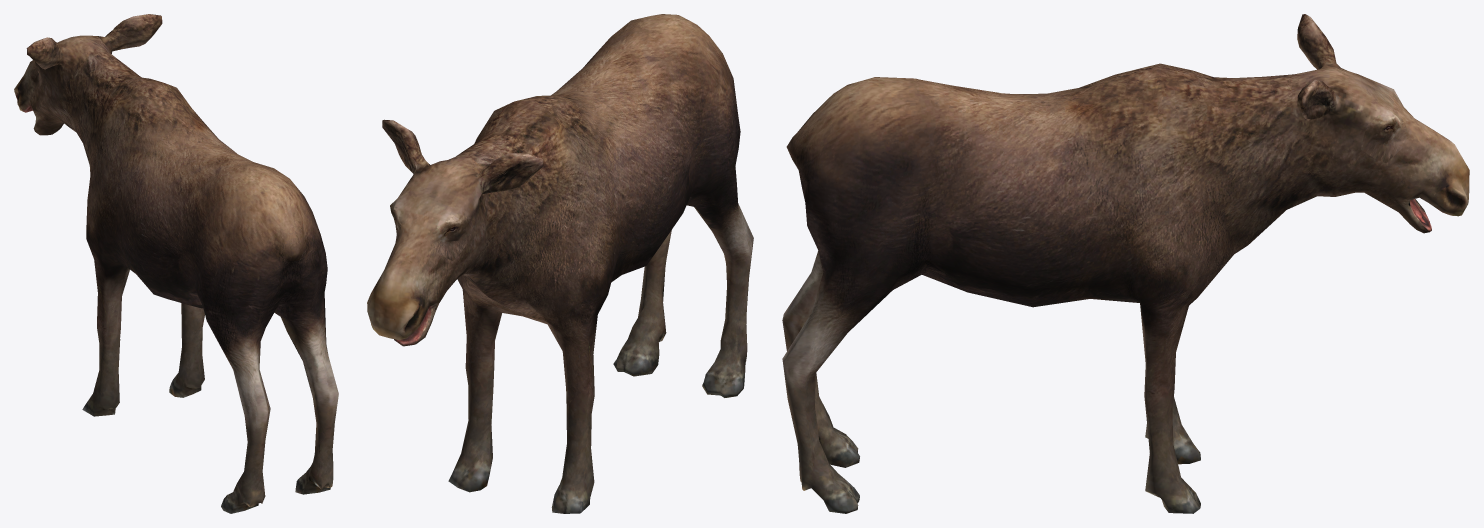
File: Moose.FBX
3 views of the same model, side by side, from view 1: azimuth 30°, elevation 25°; view 2: azimuth 150°, elevation 25°; view 3: azimuth 270°, elevation 25° (orthographic). The views are drawn at different scales.
Parts seen in each view (by area): view 1: Moose_type_01; view 2: Moose_type_01; view 3: Moose_type_01.
Part boxes in pixels (<box>): Moose_type_01: <box>14,14,338,513</box>; Moose_type_01: <box>367,14,753,513</box>; Moose_type_01: <box>782,14,1469,513</box>.
Bounding box in the file's own units: 83.34 × 200 × 289.
